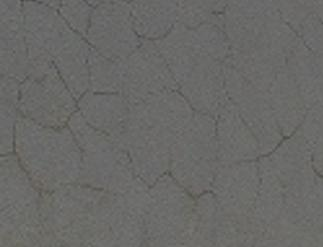fissura: (11, 3, 323, 246)
